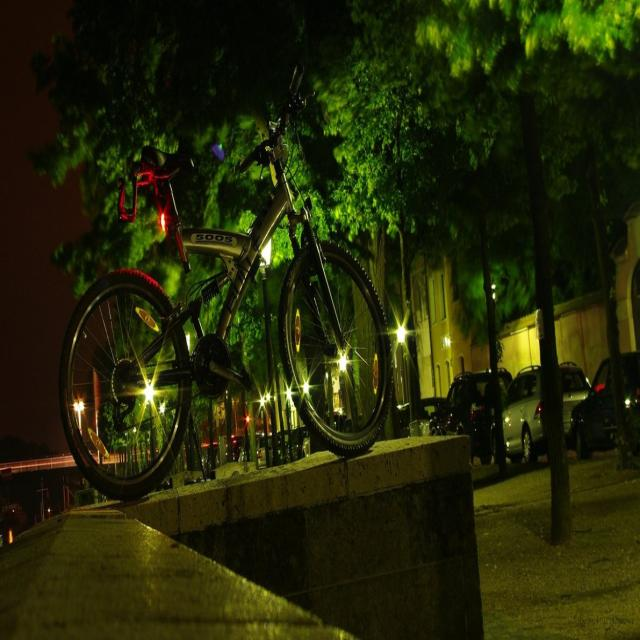Bicycle: (56, 118, 408, 488)
car: (514, 331, 577, 456), (445, 358, 520, 461), (589, 353, 640, 457)
